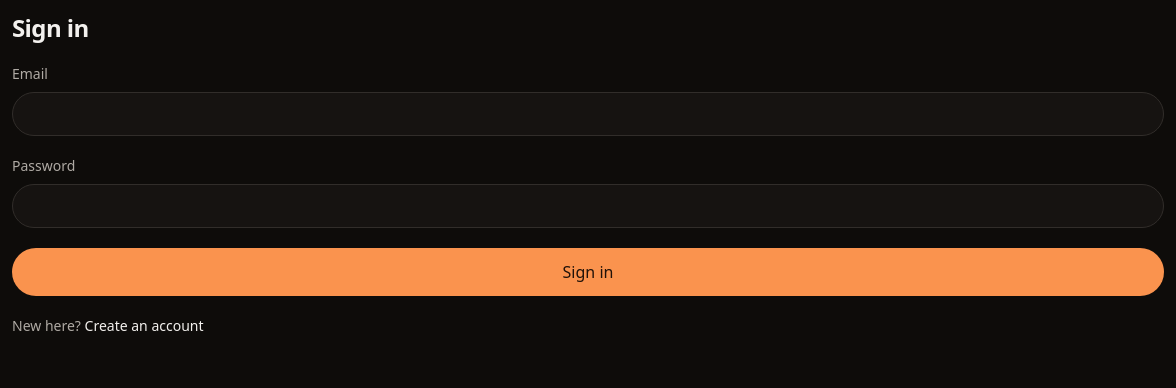
AuthForm › explains INVALID_EMAIL_OR_PASSWORD and stays on the page
Type "me@example.com" into the field labelled "Email".
click(588, 114); type("me@example.com")  # box [12,92,1164,136]
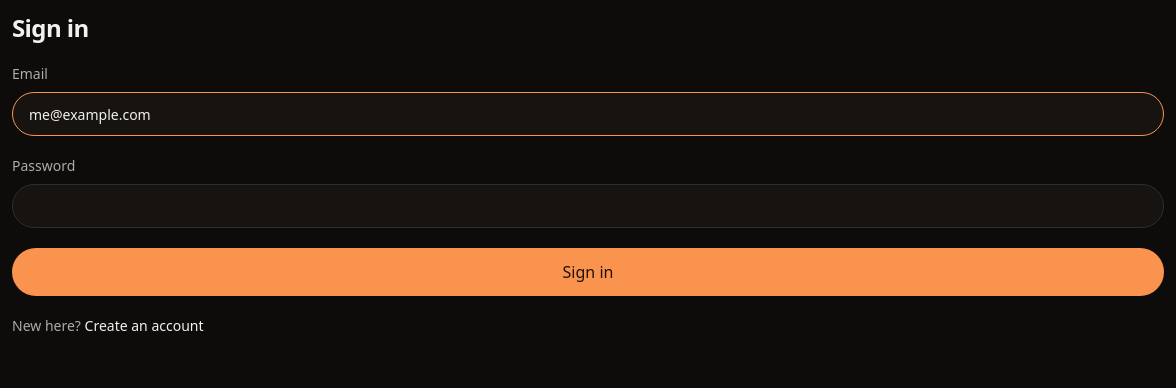
Type "longenough1" into the password field labelled "Password".
click(588, 206); type("longenough1")  # box [12,184,1164,228]
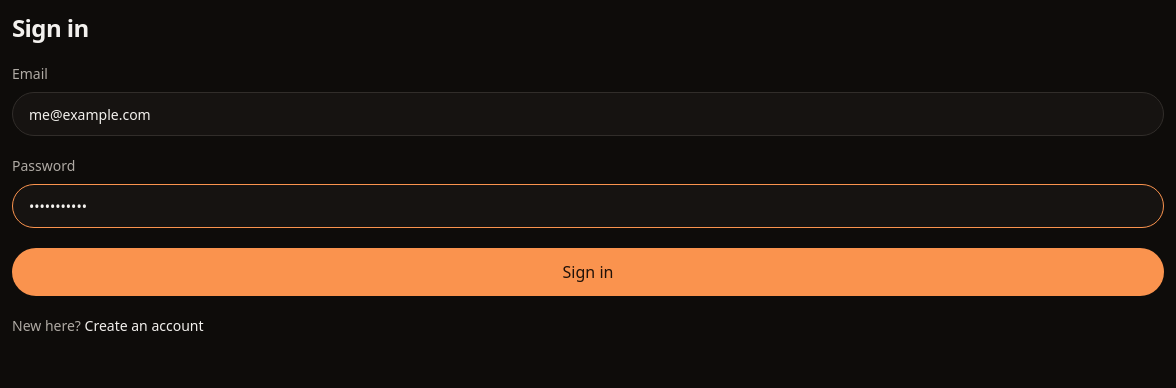
Click the button "Sign in".
click(588, 272)  # box [12,248,1164,296]
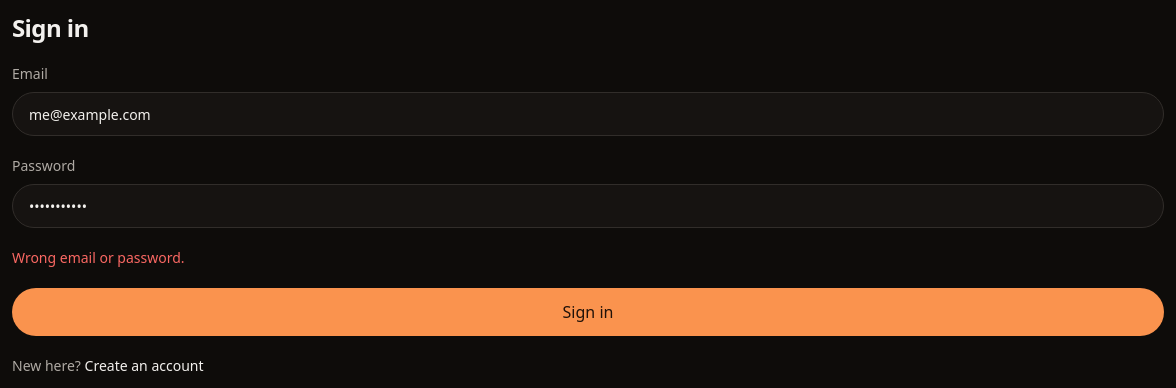
Expected: the message reads "Wrong email or password.", [12,248,185,267]
